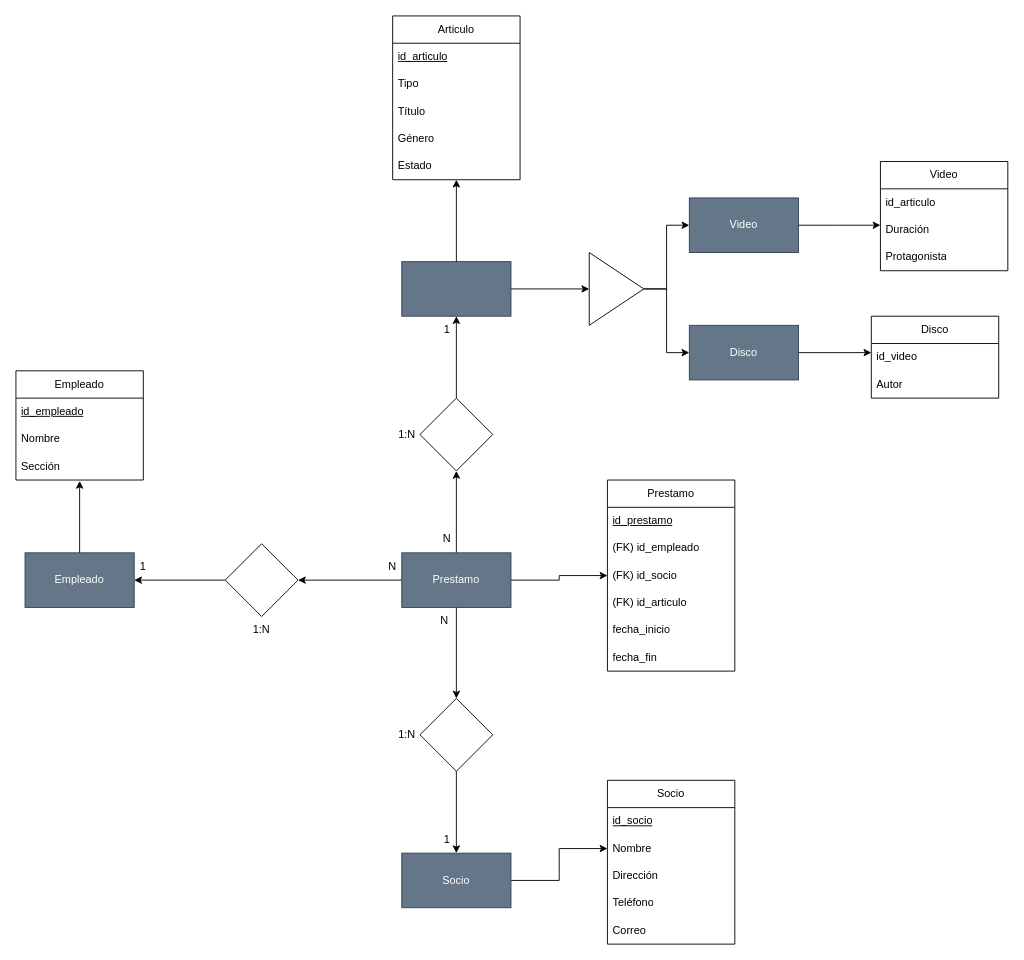
The diagram is 1024 pixels wide and 960 high, and some of its shapes have lost their labels. Here are the shapes that lost their labels. From the top down, the centre of each, then its label:
At pixel 456 288: "Artículo".
At pixel 456 434: "es_prestado".
At pixel 261 580: "realiza".
At pixel 456 734: "tiene".
